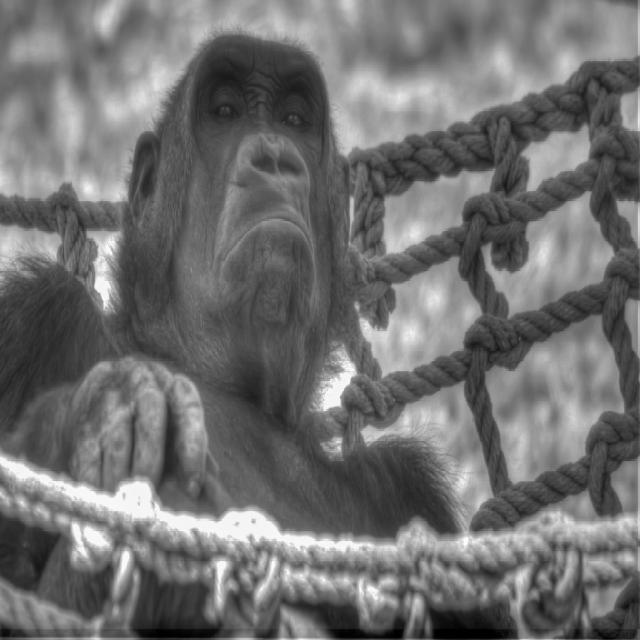Monkey: (0, 26, 515, 640)
